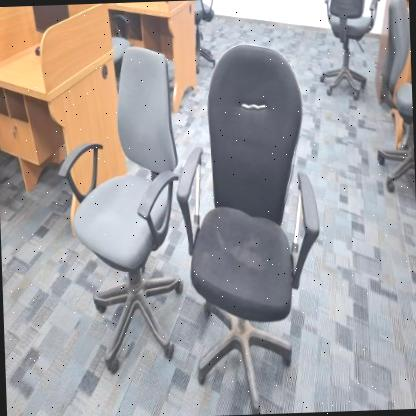chair: (177, 39, 329, 409), (42, 38, 194, 370)
